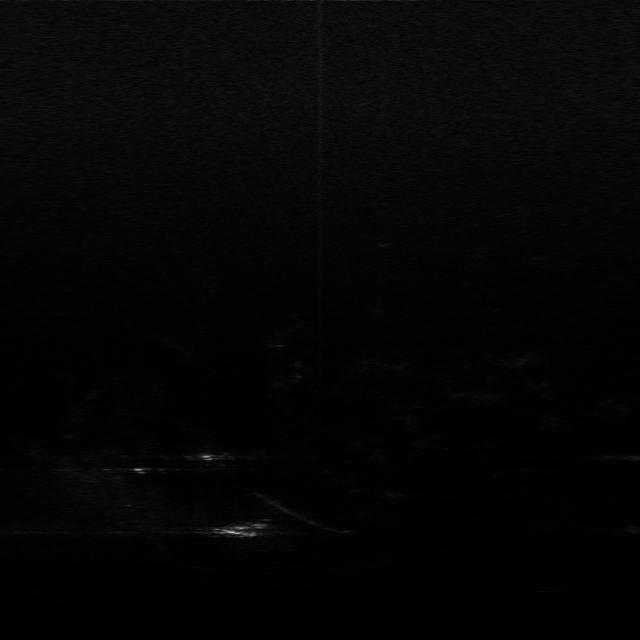rov: (210, 518, 270, 540)
